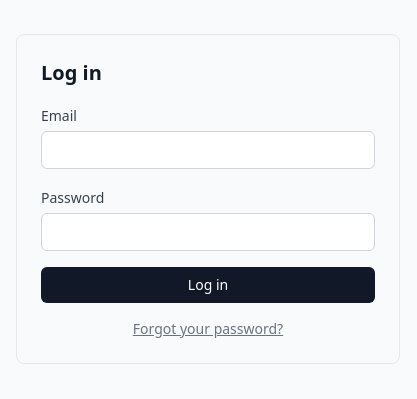
LoginPage › shows an error message when sign in fails
In the field labelled "Email": (208, 150) top-left (41, 131), bottom-right (375, 169), type "test@example.com"
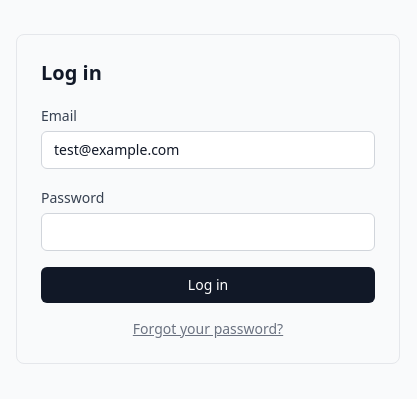
In the password field labelled "Password": (208, 232) top-left (41, 213), bottom-right (375, 251), type "wrong-password"
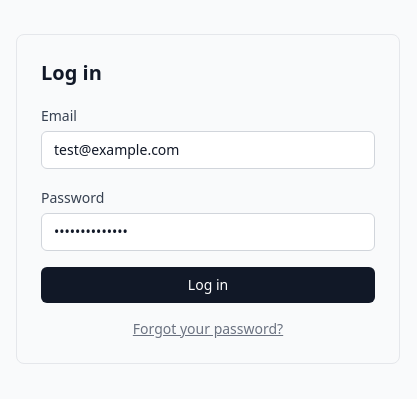
Click the button "Log in": (208, 285) top-left (41, 267), bottom-right (375, 303)
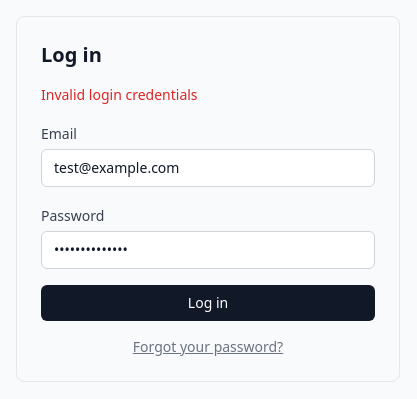
Result: the message reads "Invalid login credentials" at top-left (41, 85), bottom-right (198, 104)
